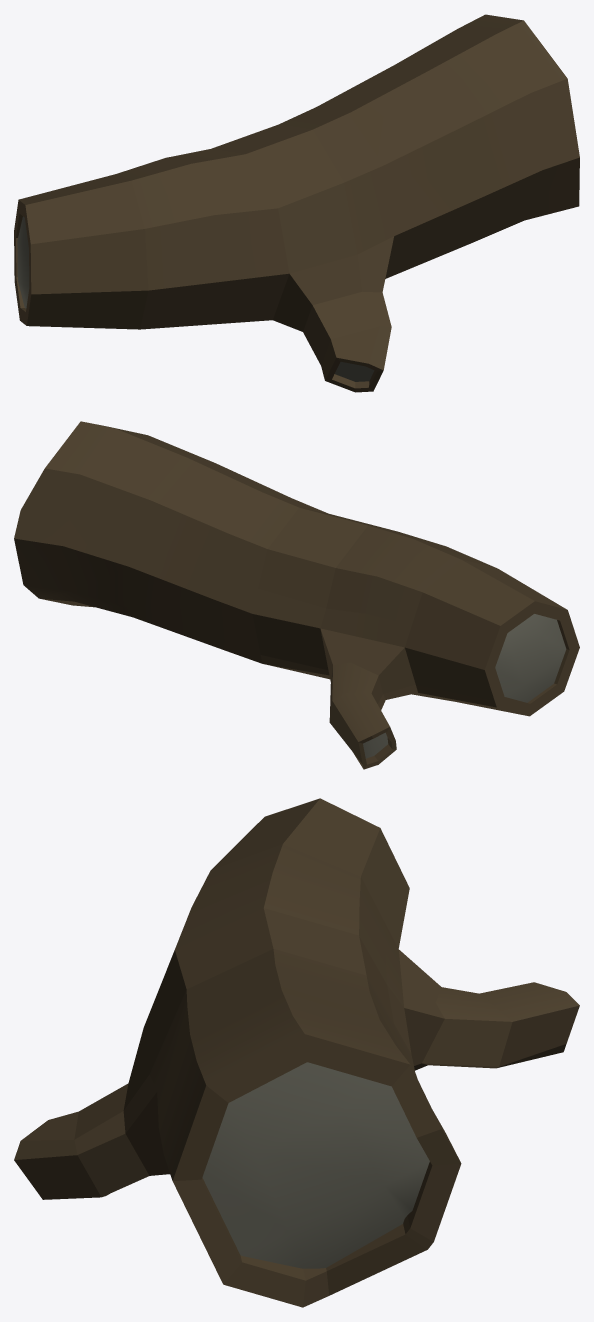
File: Log_Orticon_tree.fbx
The picture shows the model from 3 angles, top to bottom: view 1: azimuth 30°, elevation 25°; view 2: azimuth 150°, elevation 25°; view 3: azimuth 270°, elevation 25°; orthographic projection. The views are drawn at different scales.
Visible parts, largest first — view 1: Main, Cap2; view 2: Main, Cap2; view 3: Main, Cap1.
Boxes of the visible parts, x1,y1,x2,y2 form: Main: (14,14,579,392); Cap2: (17,216,29,308); Main: (14,421,579,769); Cap2: (495,614,566,702); Main: (14,798,579,1307); Cap1: (202,1062,429,1268).
Size of the model in its own units: 187 by 80.3 by 124.
